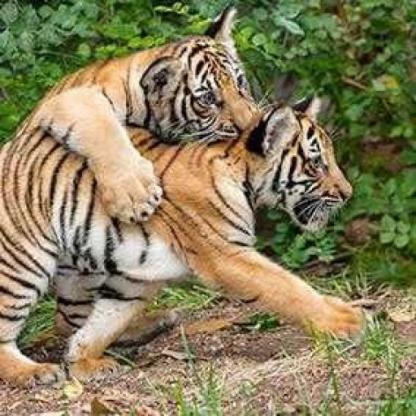Tiger: (2, 107, 416, 396), (10, 3, 281, 206)
